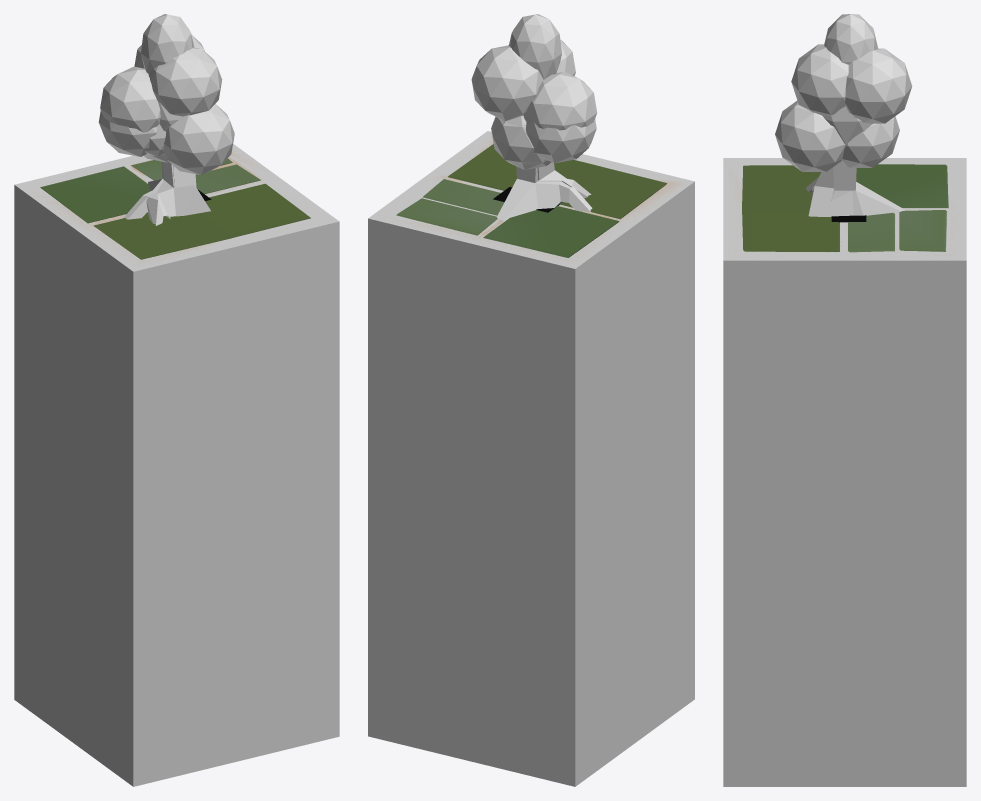
The model's file is models_2.gltf.
3 renders of one model, left to right at view 1: azimuth 30°, elevation 25°; view 2: azimuth 150°, elevation 25°; view 3: azimuth 270°, elevation 25°, orthographic. The views are drawn at different scales.
Parts seen in each view (by area): view 1: LandTile, FarmTile, Tree1, Tree2, Tree4, CityTile, Tree3; view 2: LandTile, FarmTile, Tree1, CityTile, Tree2, Tree4, Tree3; view 3: LandTile, FarmTile, Tree1, Tree4, Tree2, CityTile.
Part boxes in pixels (x1,y1,x2,y2): LandTile: (14,144,339,786); FarmTile: (17,144,336,271); Tree1: (100,35,234,219); Tree2: (98,47,222,156); Tree4: (141,14,210,225); CityTile: (17,144,335,271); Tree3: (144,126,194,225); LandTile: (368,131,694,786); FarmTile: (369,131,693,268); Tree1: (471,45,597,220); CityTile: (370,131,692,268); Tree2: (526,40,596,163); Tree4: (508,14,587,198); Tree3: (495,115,591,196); LandTile: (723,158,966,786); FarmTile: (723,158,966,260); Tree1: (775,48,912,215); Tree4: (805,14,877,216); Tree2: (791,44,848,115); CityTile: (723,158,966,260).
Size of the model in its own units: 1 by 3.26 by 1.
